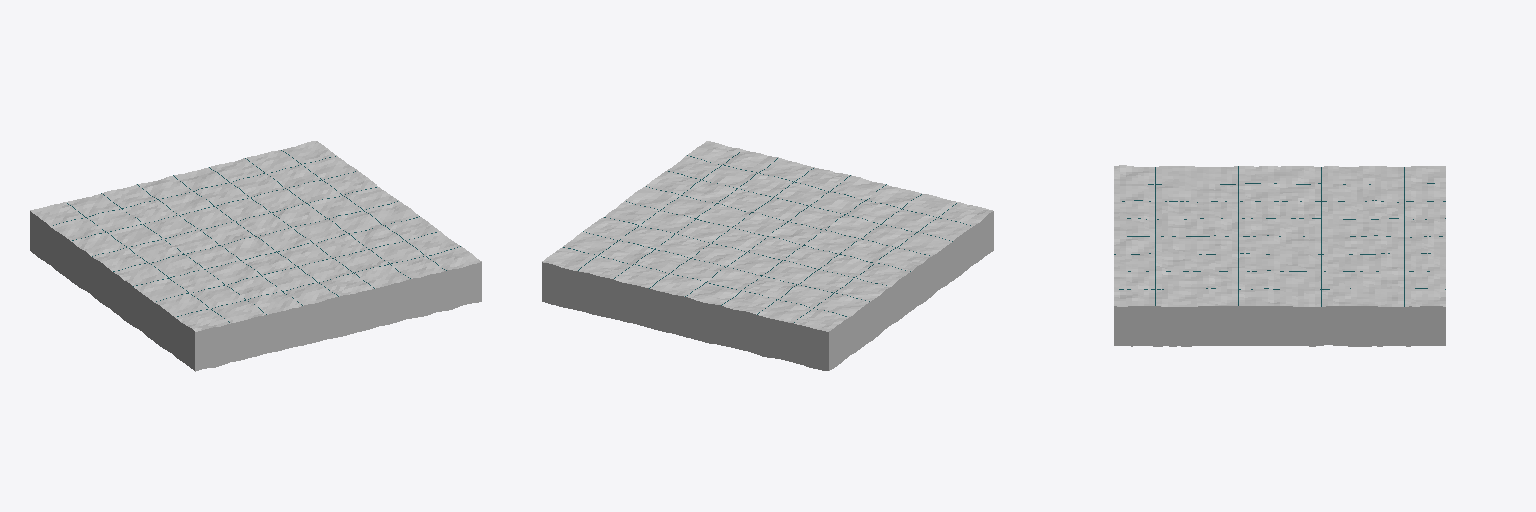
Rendered from ground_water.obj.
The picture shows the model from 3 angles: view 1: azimuth 30°, elevation 25°; view 2: azimuth 150°, elevation 25°; view 3: azimuth 270°, elevation 25°; orthographic projection.
Visible parts, largest first — view 1: Plane.048_Plane.050; view 2: Plane.048_Plane.050; view 3: Plane.048_Plane.050.
Boxes of the visible parts, <box> form: Plane.048_Plane.050: <box>30,141,481,371</box>; Plane.048_Plane.050: <box>542,141,993,370</box>; Plane.048_Plane.050: <box>1114,165,1445,346</box>.
Bounding box in the file's own units: 34.59 × 4.84 × 34.59.